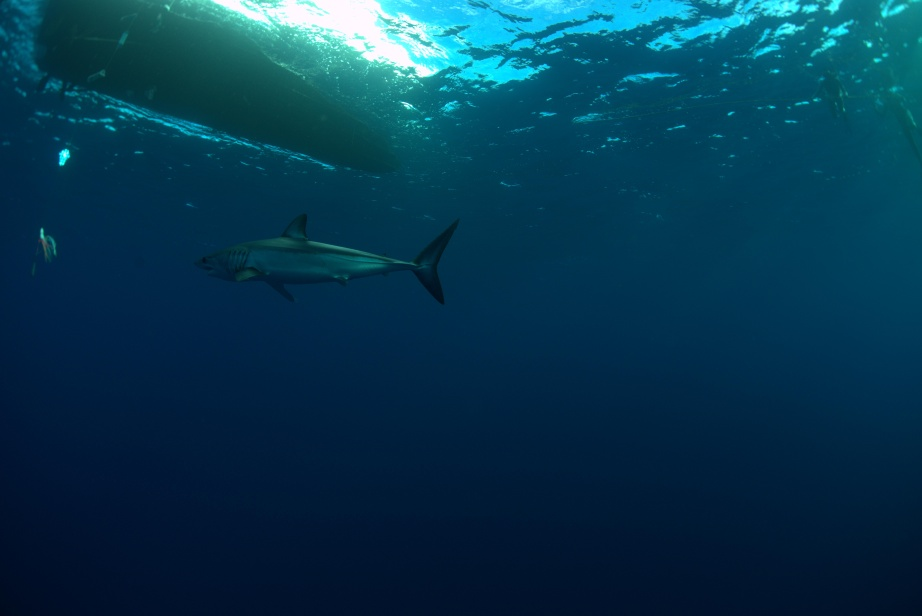Mako: (180, 201, 471, 320)
